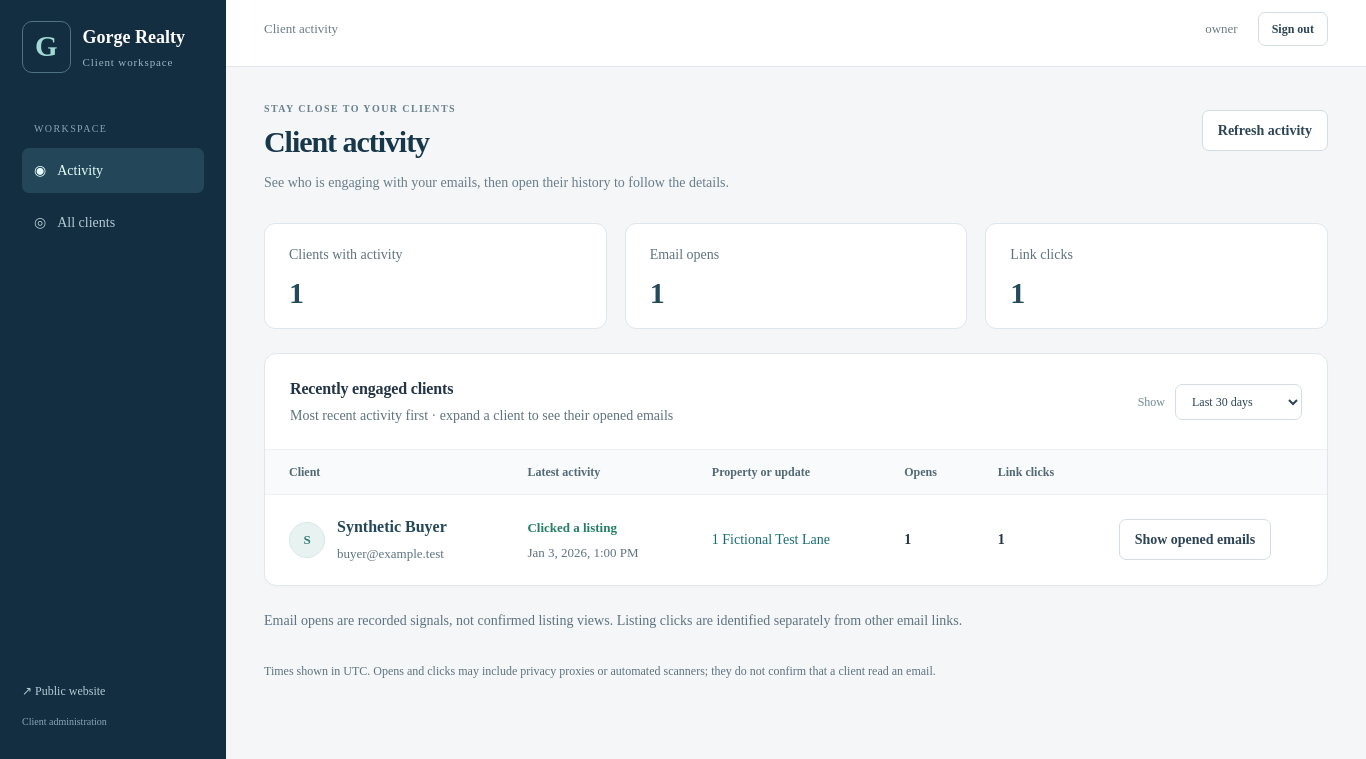
activity is the landing page and period filters reset the activity query
Expected: the heading "Recently engaged clients" is shown, [290,380,453,397]
Expected: the text "Clicked a listing" is shown, [527,520,617,534]
Select "Last 7 days" in the dropdown labelled "Show" at [1238, 402], box [1175,384,1302,420]
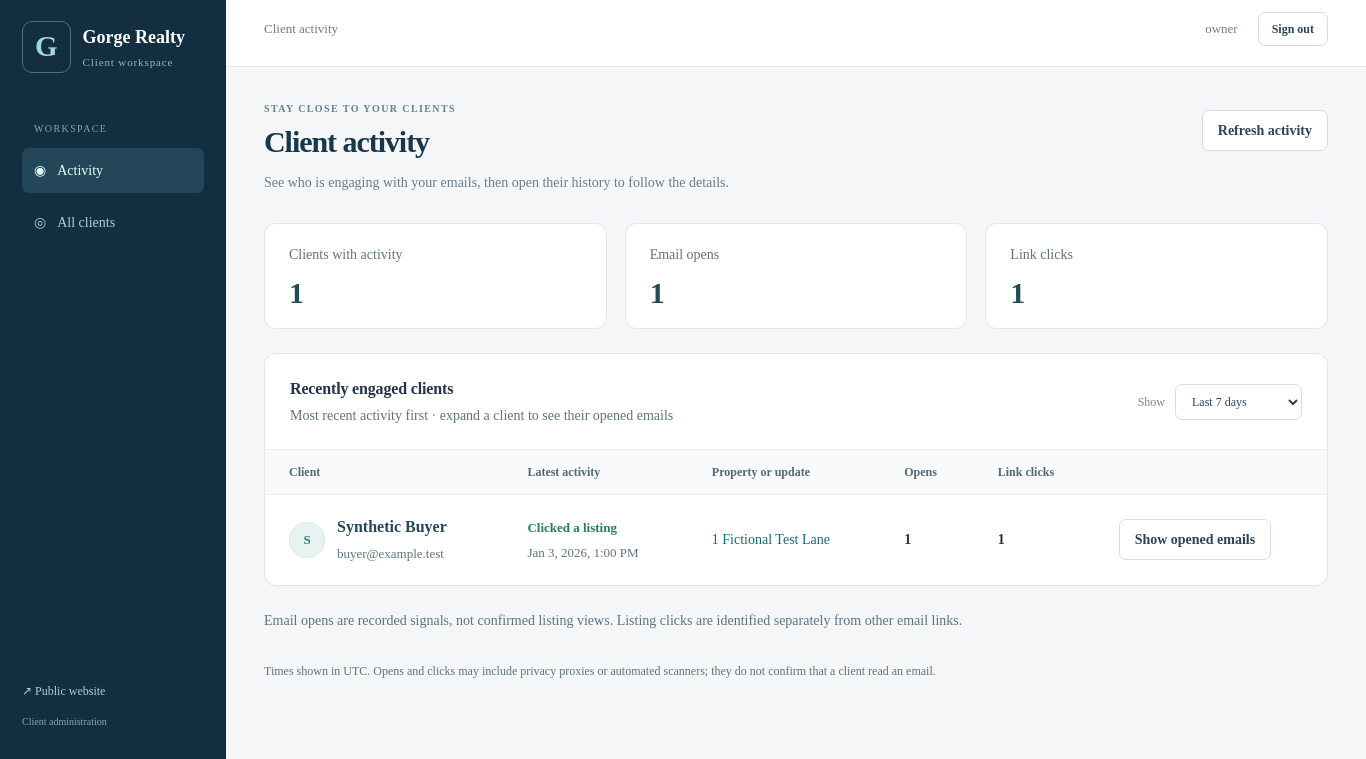
Expected: the link "Synthetic Buyer" is shown, [337,515,447,539]
Click the link "◎ All clients" at [75, 222], box [34,214,115,230]
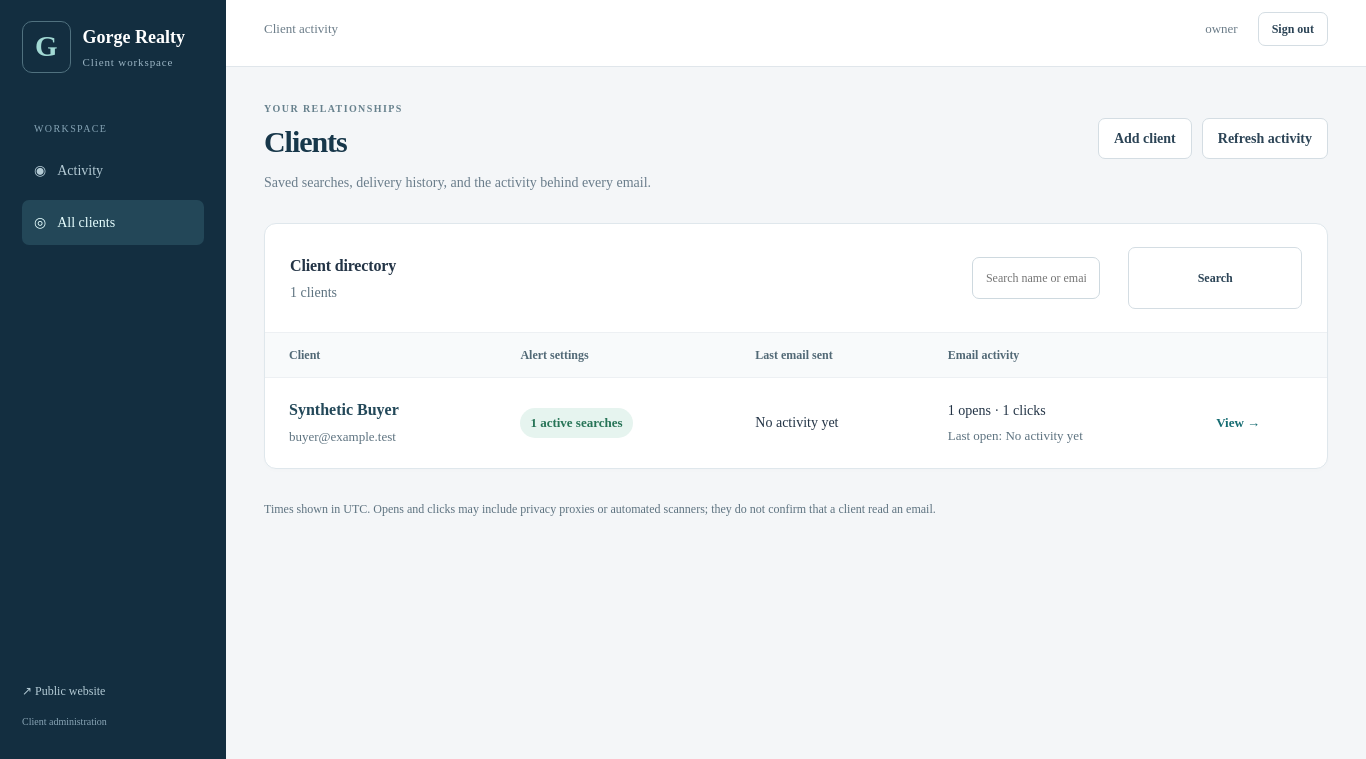
Expected: the heading "Client directory" is shown, [290,254,396,278]
Click the link "Synthetic Buyer" at [344, 410], box [289,401,399,418]
(page scrolled)
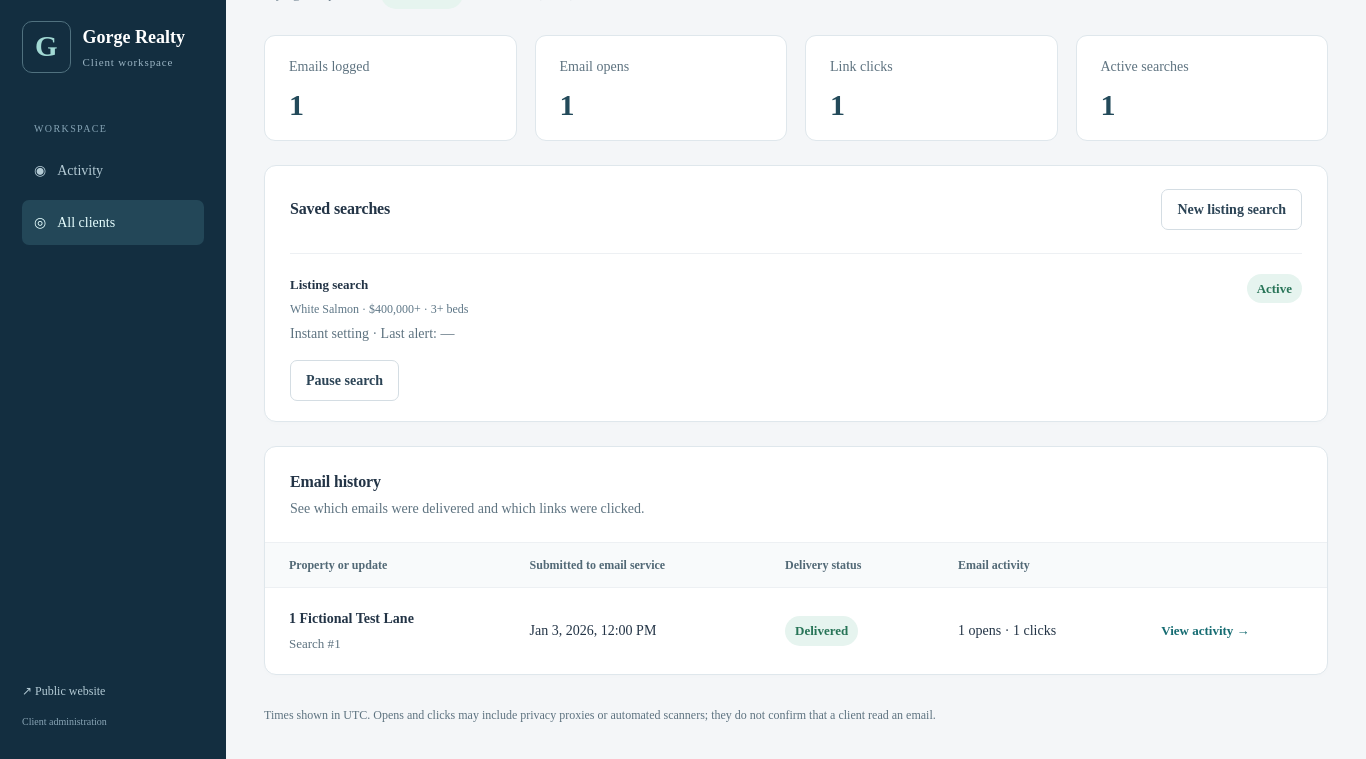
Expected: the link "View activity →" is shown, [1161,623,1250,638]
